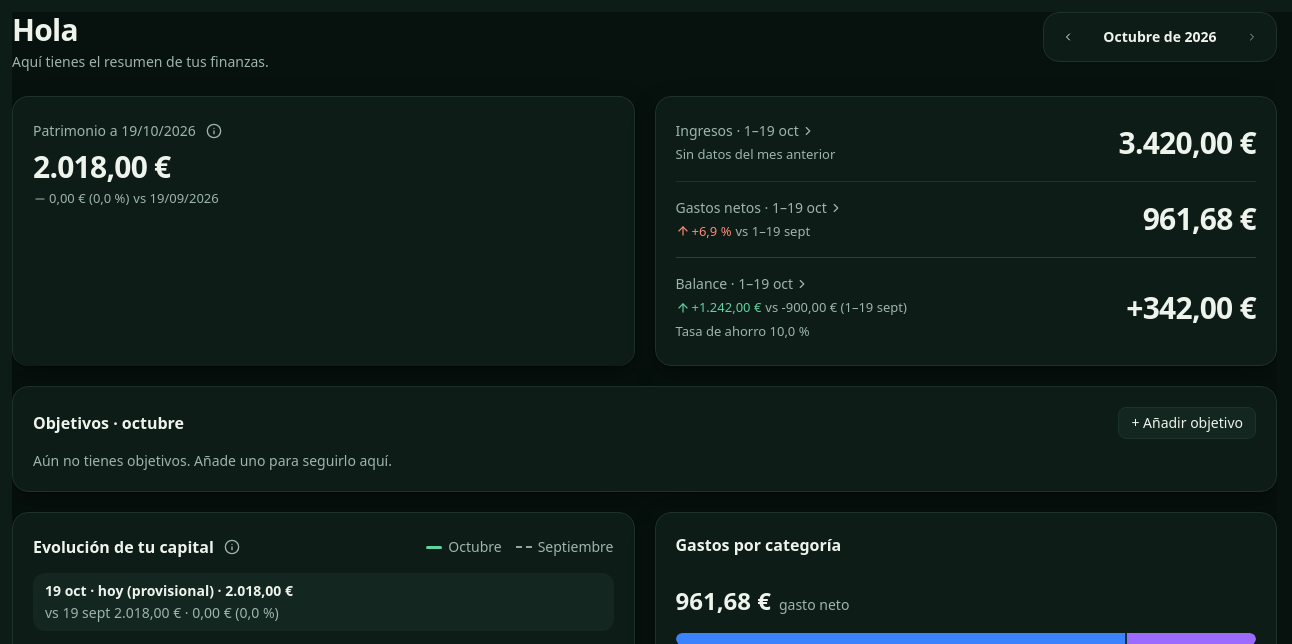
Test case: PaginaInicio · selector de mes › «Mes anterior» pone ?mes=2026-09 y pide mes completo vs mes anterior completo
Expected: the heading "Patrimonio a 19/10/2026" is shown, [33,121,196,141]
Step 1. Click the button named "Mes anterior" → (1068, 37), box [1046,15,1090,59]
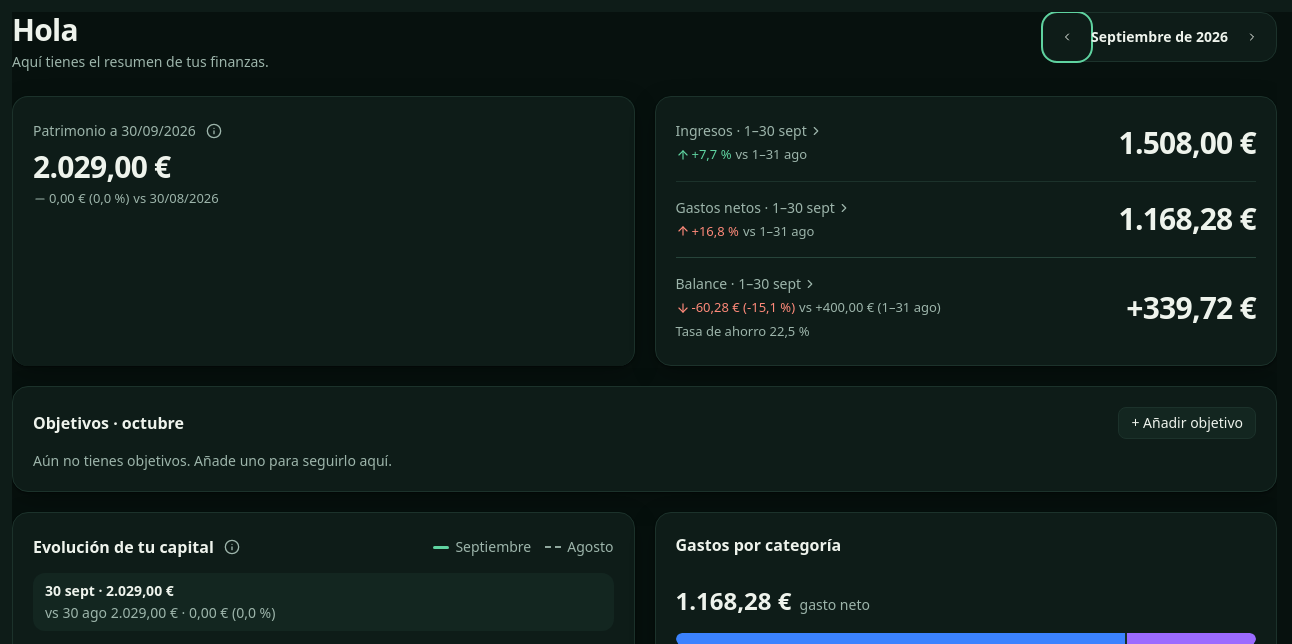
Now the heading "Patrimonio a 30/09/2026" is shown, box [33,121,196,141]
# Volver al mes en curso quita el parámetro.
Step 2. Click the button named "Mes siguiente" → (1252, 37), box [1230,15,1274,59]
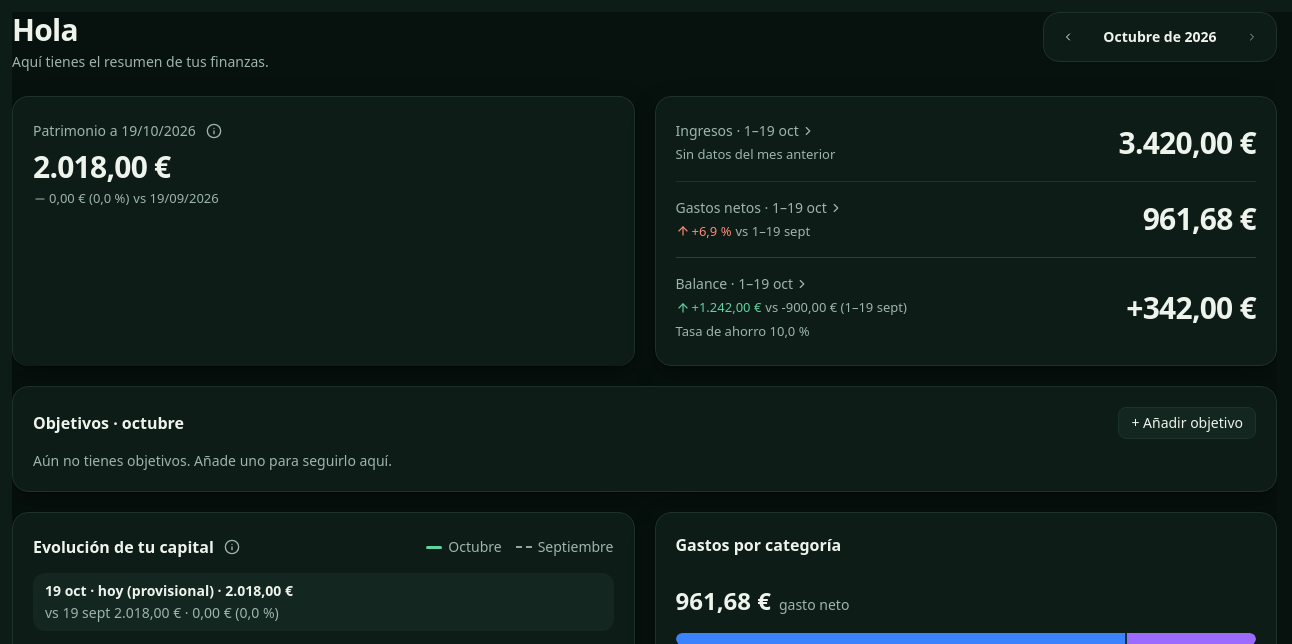
Now the heading "Patrimonio a 19/10/2026" is shown, box [33,121,196,141]
